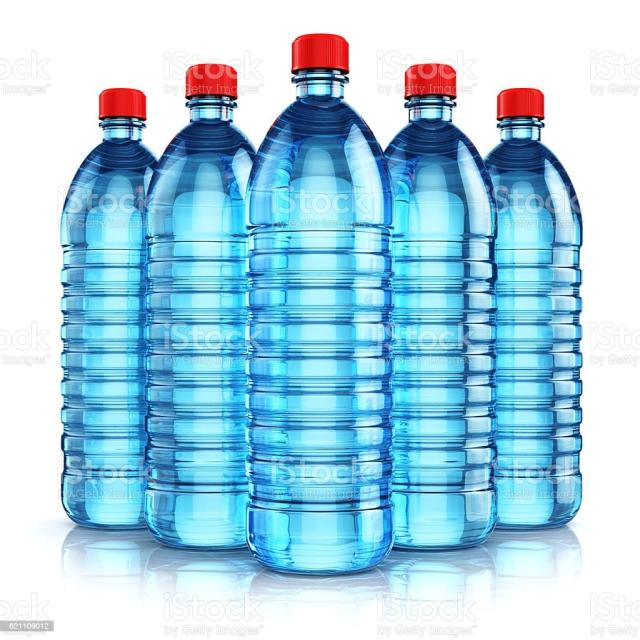plastic_bottle: (483, 86, 584, 531)
